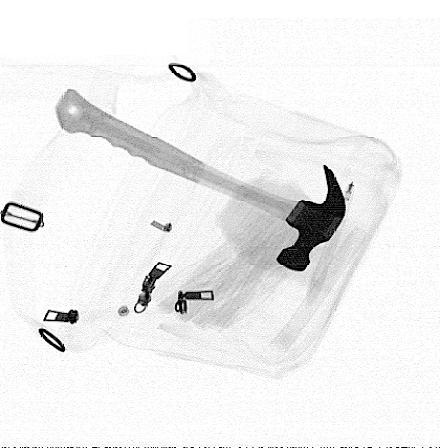Hammer: (53, 88, 346, 272)
